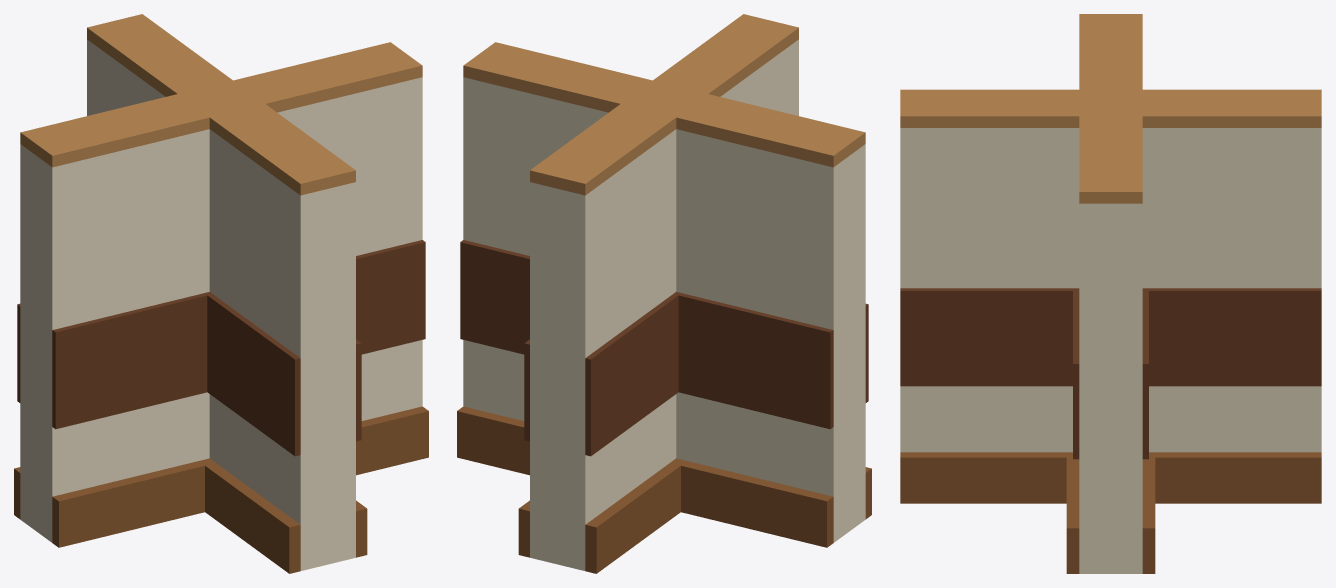
The model's file is partition-full-cross.glb.
The picture shows the model from 3 angles, left to right: view 1: azimuth 30°, elevation 25°; view 2: azimuth 150°, elevation 25°; view 3: azimuth 270°, elevation 25°; orthographic projection.
Parts seen in each view (by area): view 1: partition-full-cross; view 2: partition-full-cross; view 3: partition-full-cross.
Part boxes in pixels (x1=…): partition-full-cross: x1=14, y1=14, x2=428, y2=573; partition-full-cross: x1=457, y1=14, x2=871, y2=573; partition-full-cross: x1=900, y1=14, x2=1321, y2=573.
Size of the model in its own units: 1 by 1 by 1.
Materials: 1 (1 with a texture image).
